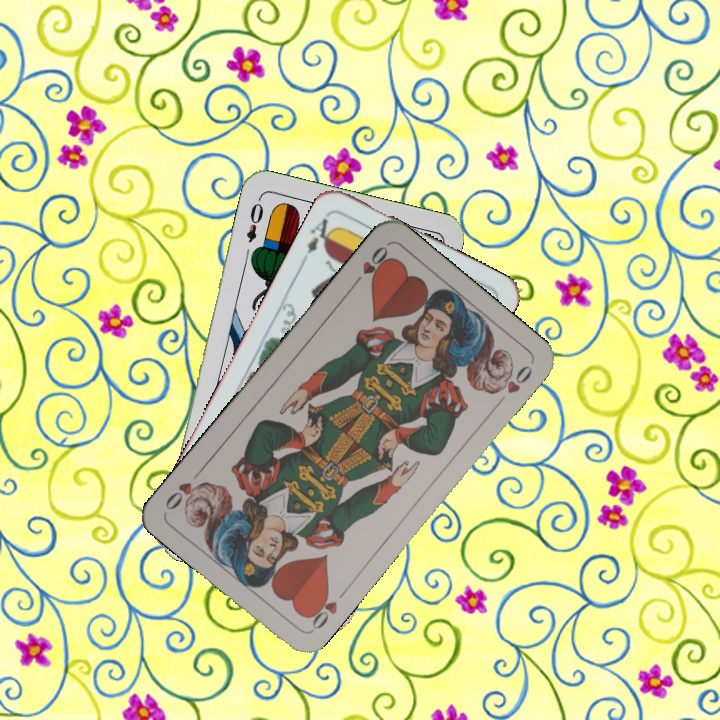EA: (302, 210, 338, 257)
EO: (242, 194, 266, 245)
HO: (347, 242, 393, 290), (302, 587, 340, 634)
